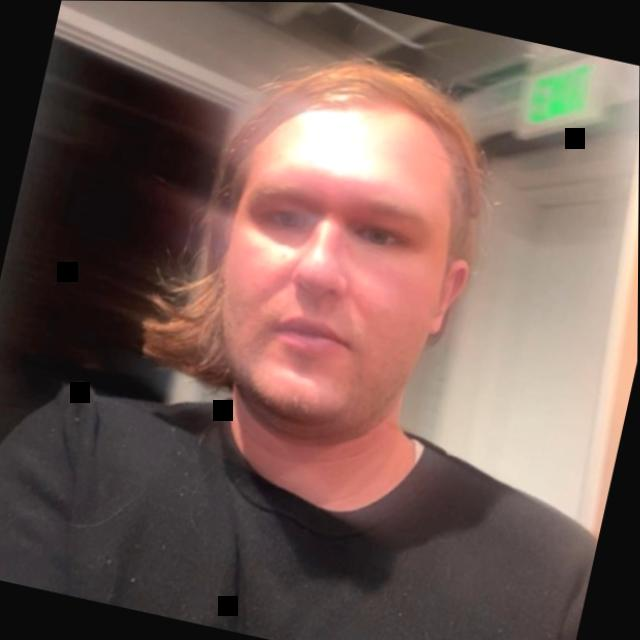NO-Mask: (108, 19, 504, 551)
